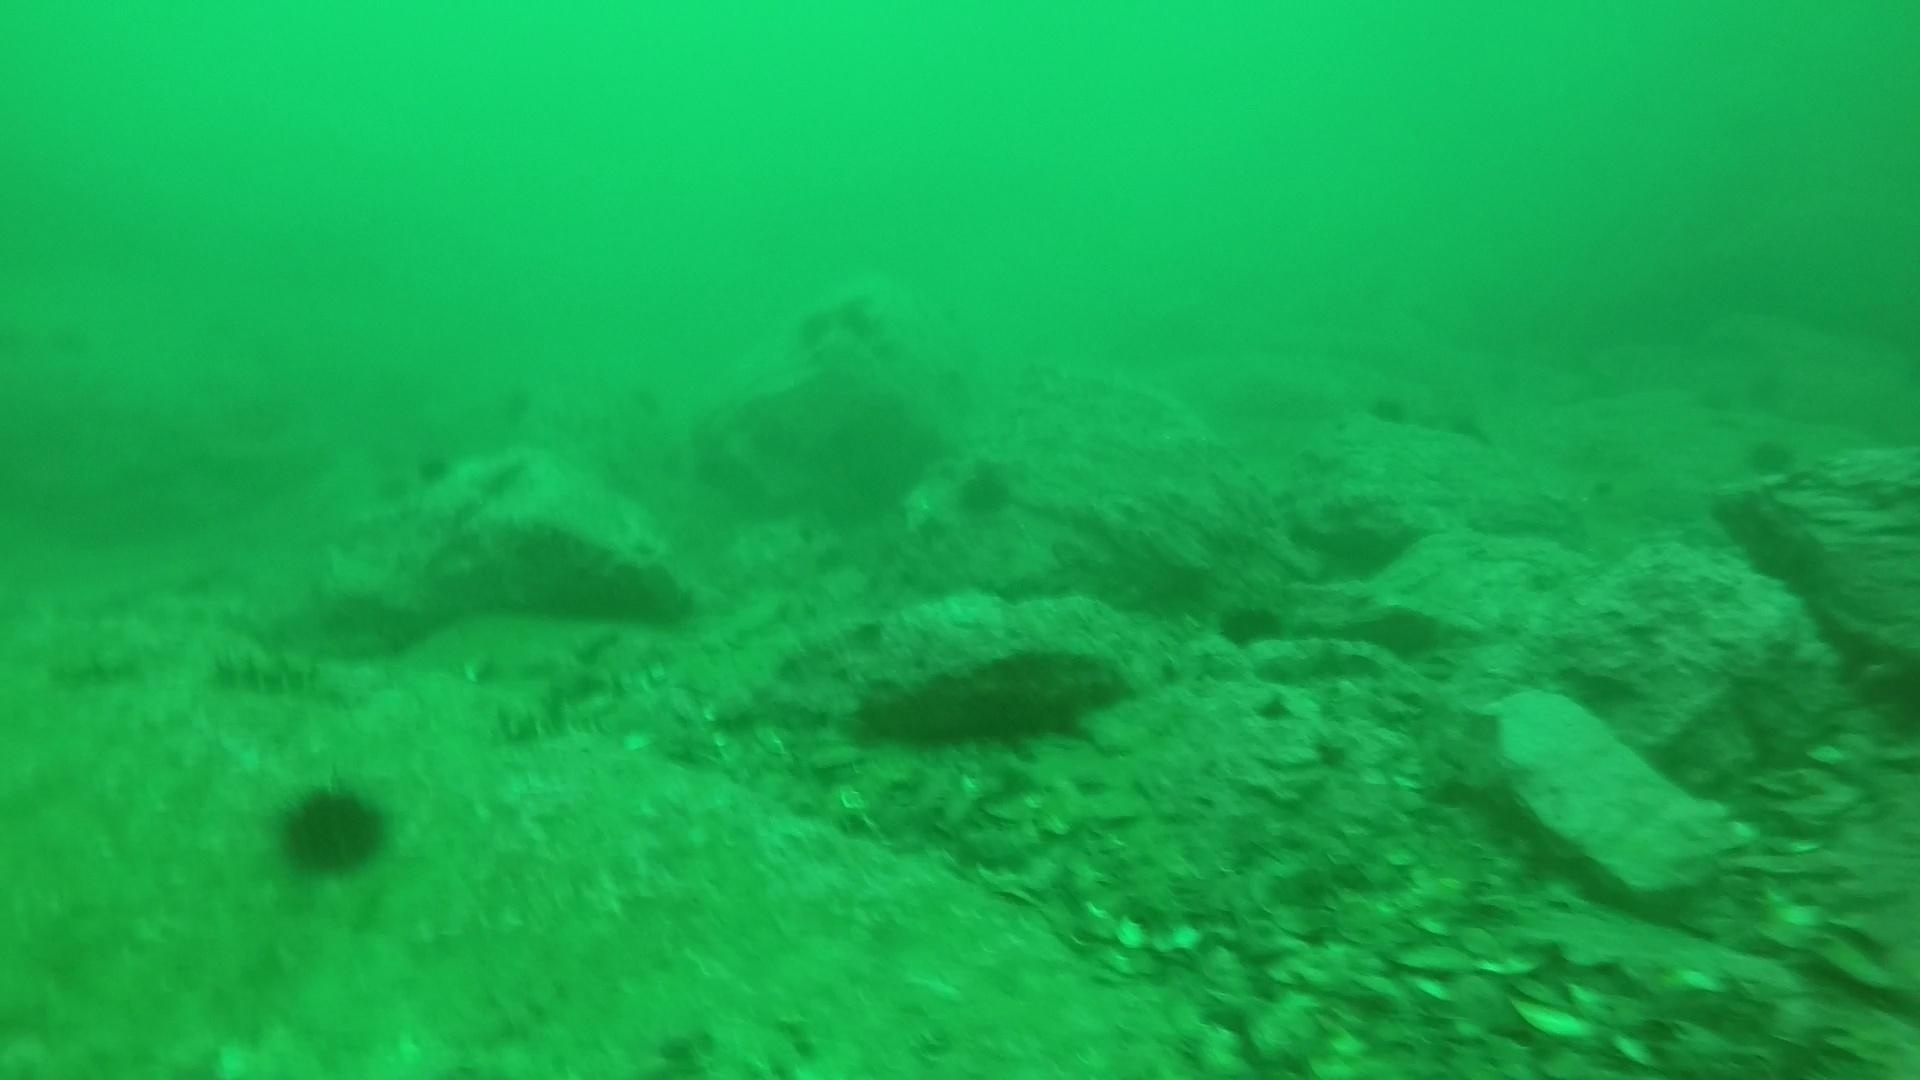echinus: (268, 775, 396, 884), (949, 456, 1019, 524), (1211, 593, 1288, 653), (1739, 430, 1801, 484), (402, 439, 451, 483), (1364, 390, 1412, 433), (1444, 402, 1491, 444)
holothurian: (206, 642, 334, 702)
